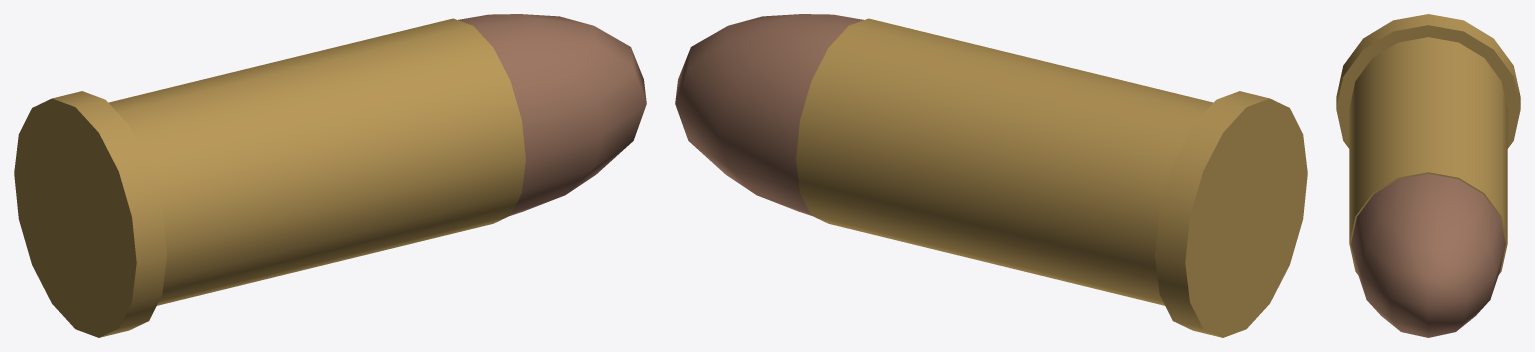
The model's file is rifle-loading-token-v1.glb.
3 renders of one model, left to right at view 1: azimuth 30°, elevation 25°; view 2: azimuth 150°, elevation 25°; view 3: azimuth 270°, elevation 25°, orthographic. The views are drawn at different scales.
Visible parts, largest first — view 1: Mesh_LoadingToken_Case, Mesh_LoadingToken_RoundedTip; view 2: Mesh_LoadingToken_Case, Mesh_LoadingToken_RoundedTip; view 3: Mesh_LoadingToken_Case, Mesh_LoadingToken_RoundedTip.
Part boxes in pixels (x1,y1,x2,y2): Mesh_LoadingToken_Case: (14, 18, 525, 337); Mesh_LoadingToken_RoundedTip: (458, 14, 646, 215); Mesh_LoadingToken_Case: (796, 18, 1307, 337); Mesh_LoadingToken_RoundedTip: (675, 14, 863, 215); Mesh_LoadingToken_Case: (1336, 14, 1520, 274); Mesh_LoadingToken_RoundedTip: (1351, 173, 1505, 337).
Size of the model in its own units: 0.03 by 0.0112 by 0.0112.
